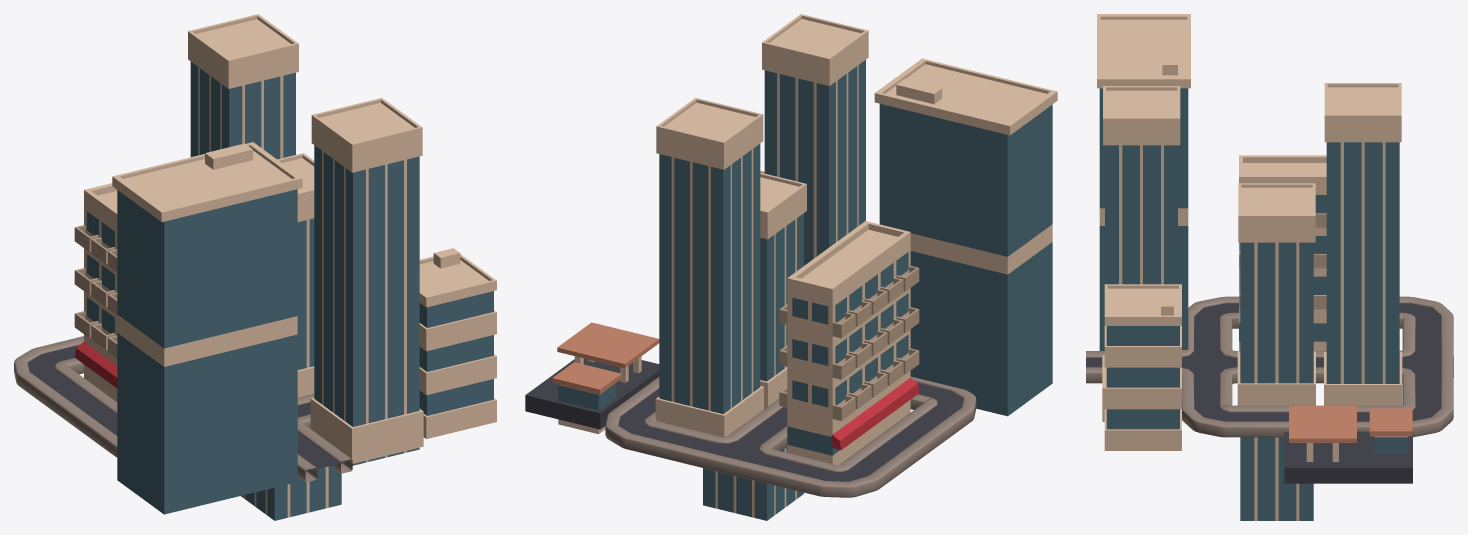
The model's file is end highrise.glb.
3 renders of one model, left to right at view 1: azimuth 30°, elevation 25°; view 2: azimuth 150°, elevation 25°; view 3: azimuth 270°, elevation 25°, orthographic. The views are drawn at different scales.
Visible parts, largest first — view 1: tall building.011, tall building.012, tall building.013, tall building.010, road.008, tall building.014, bldg base.003, apt.004, apartment.004, Cube.031, Cube.027, Cube.029 (+2 smaller); view 2: tall building.011, tall building.013, tall building.012, road.008, tall building.014, apt.004, apartment.004, house.040, house.041, flat roof.009, gas station.003, bldg base.004 (+5 smaller); view 3: tall building.013, tall building.014, road.008, tall building.012, tall building.010, tall building.011, flat roof.009, apt.004, gas station.003, bldg base.005, bldg base.004, conv store.003 (+2 smaller).
Part boxes in pixels (<box>): tall building.011: <box>112,142,302,514</box>; tall building.012: <box>311,98,422,465</box>; tall building.013: <box>188,14,298,159</box>; tall building.010: <box>419,248,496,438</box>; road.008: <box>14,336,352,481</box>; tall building.014: <box>241,153,341,520</box>; bldg base.003: <box>310,397,423,463</box>; apt.004: <box>84,183,117,249</box>; apartment.004: <box>75,334,117,401</box>; Cube.031: <box>74,225,117,271</box>; Cube.027: <box>74,311,117,357</box>; Cube.029: <box>74,268,117,314</box>; tall building.011: <box>874,58,1057,416</box>; tall building.013: <box>656,97,763,414</box>; tall building.012: <box>762,14,868,265</box>; road.008: <box>605,376,976,497</box>; tall building.014: <box>703,172,806,520</box>; apt.004: <box>787,221,910,341</box>; apartment.004: <box>787,371,919,465</box>; house.040: <box>787,329,910,424</box>; house.041: <box>787,288,910,382</box>; flat roof.009: <box>525,358,659,429</box>; gas station.003: <box>557,322,659,368</box>; bldg base.004: <box>655,386,763,436</box>; tall building.013: <box>1324,83,1401,383</box>; tall building.014: <box>1238,183,1315,520</box>; road.008: <box>1086,296,1453,437</box>; tall building.012: <box>1103,86,1180,284</box>; tall building.010: <box>1104,284,1181,450</box>; tall building.011: <box>1097,14,1190,350</box>; flat roof.009: <box>1284,431,1412,483</box>; apt.004: <box>1239,155,1326,229</box>; gas station.003: <box>1289,406,1356,442</box>; bldg base.005: <box>1237,351,1315,405</box>; bldg base.004: <box>1324,352,1402,405</box>; conv store.003: <box>1369,408,1412,452</box>.
Bounding box in the file's own units: 132 × 139 × 114.
